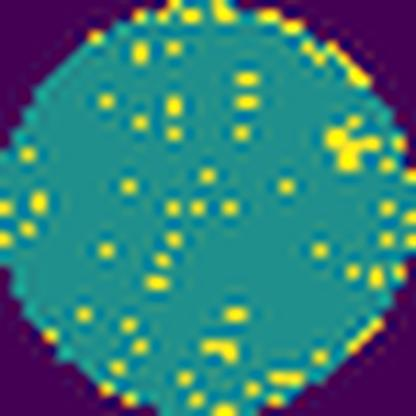Loc: (325, 113, 383, 172)
